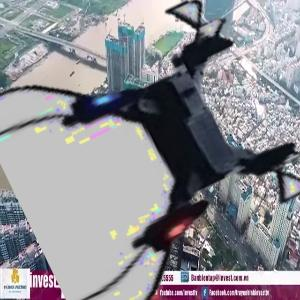drone: (12, 11, 299, 298)
